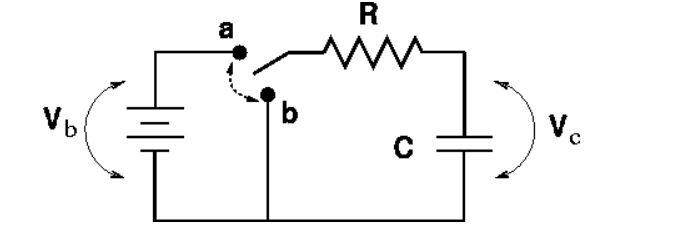Capacitor: (425, 108, 510, 172)
